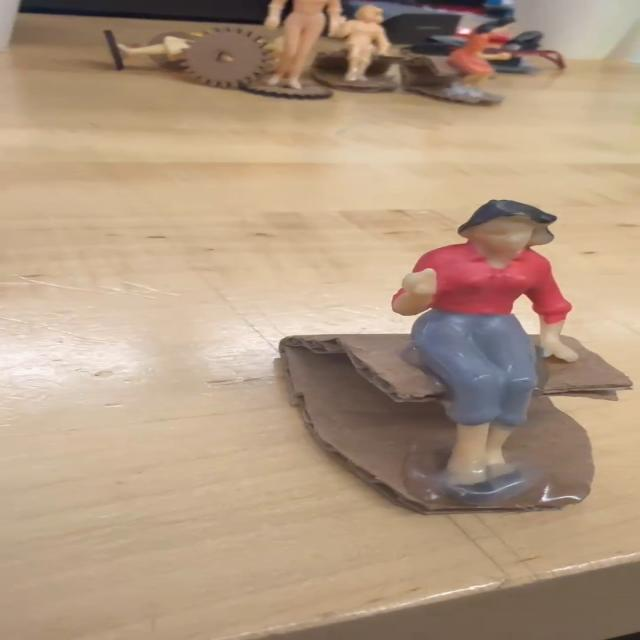Authorized: (388, 196, 584, 511)
